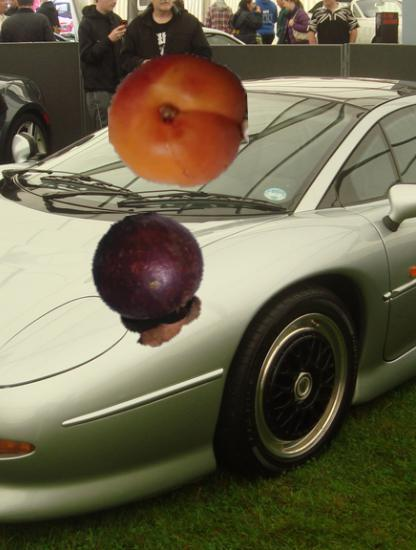Apricot: (108, 50, 249, 191)
Mangostan: (83, 213, 218, 348)
